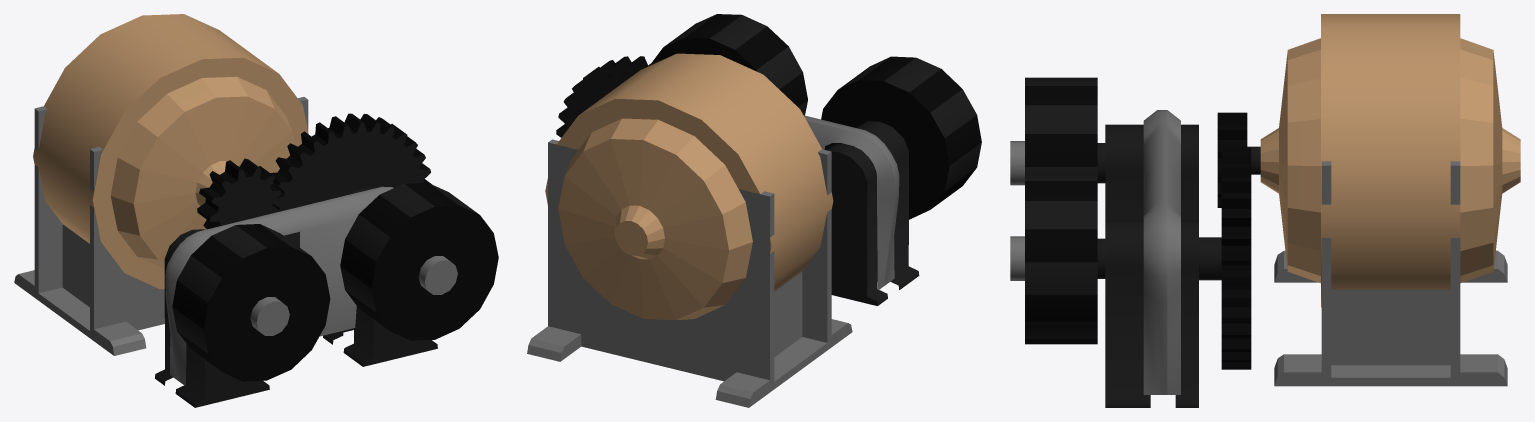
The model's file is SM_RetroMotor.fbx.
3 renders of one model, left to right at view 1: azimuth 30°, elevation 25°; view 2: azimuth 150°, elevation 25°; view 3: azimuth 270°, elevation 25°, orthographic. The views are drawn at different scales.
Visible parts, largest first — view 1: SM_RetroMotor; view 2: SM_RetroMotor; view 3: SM_RetroMotor.
Boxes of the visible parts, x1,y1,x2,y2 form: SM_RetroMotor: (14, 14, 498, 407); SM_RetroMotor: (527, 14, 981, 407); SM_RetroMotor: (1010, 14, 1520, 407).
Size of the model in its own units: 38.65 by 46.71 by 30.18.
